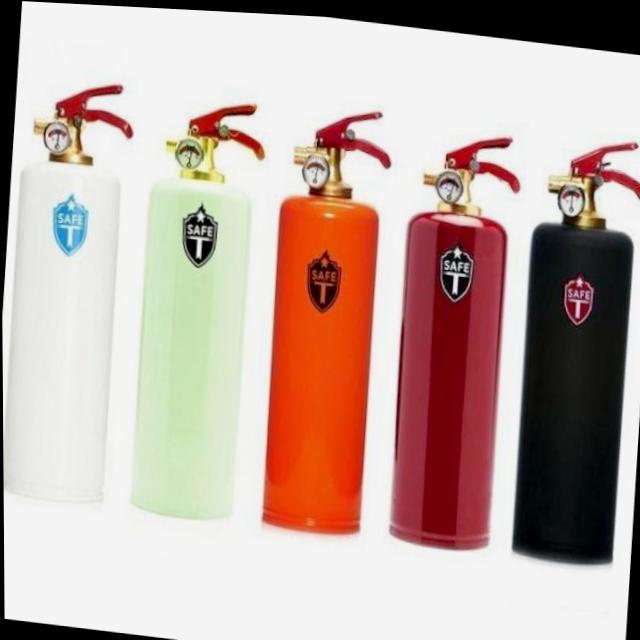FireExtinguisher: (120, 81, 272, 526), (248, 91, 398, 539), (380, 111, 526, 552), (0, 65, 143, 512), (503, 117, 640, 565)
